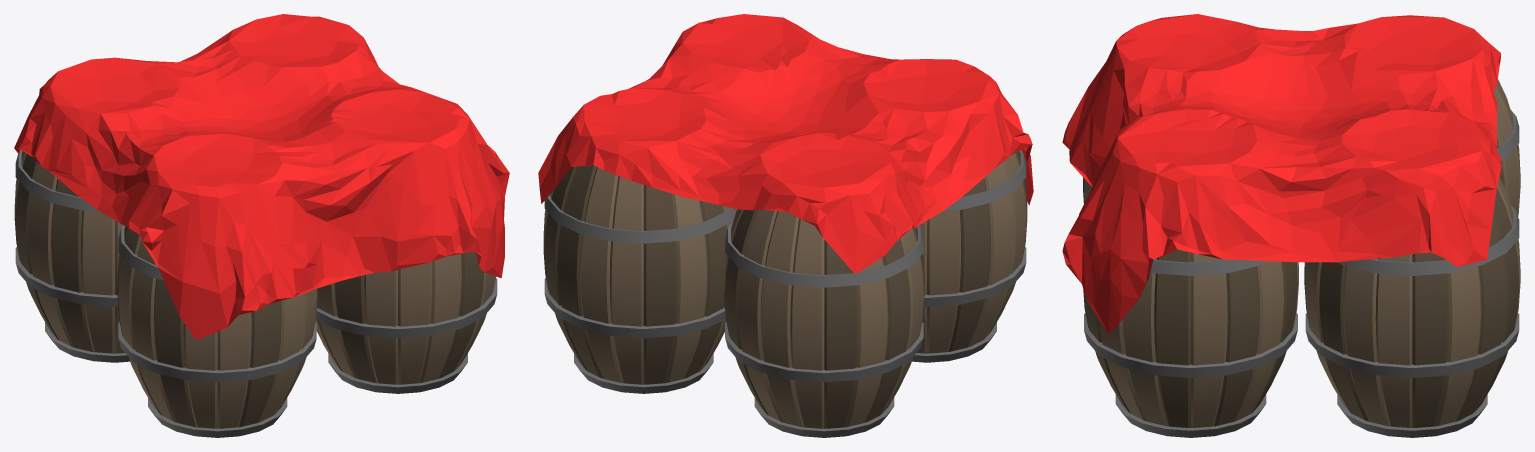
Rendered from wooden_barrel_b.FBX.
The picture shows the model from 3 angles, left to right: view 1: azimuth 30°, elevation 25°; view 2: azimuth 150°, elevation 25°; view 3: azimuth 270°, elevation 25°; orthographic projection. The views are drawn at different scales.
Visible parts, largest first — view 1: wooden_barrel_b; view 2: wooden_barrel_b; view 3: wooden_barrel_b.
Part boxes in pixels (bbox=[...]): wooden_barrel_b: bbox=[14, 14, 509, 437]; wooden_barrel_b: bbox=[538, 14, 1033, 437]; wooden_barrel_b: bbox=[1062, 14, 1520, 437].
Size of the model in its own units: 2.02 by 1.33 by 2.03.
